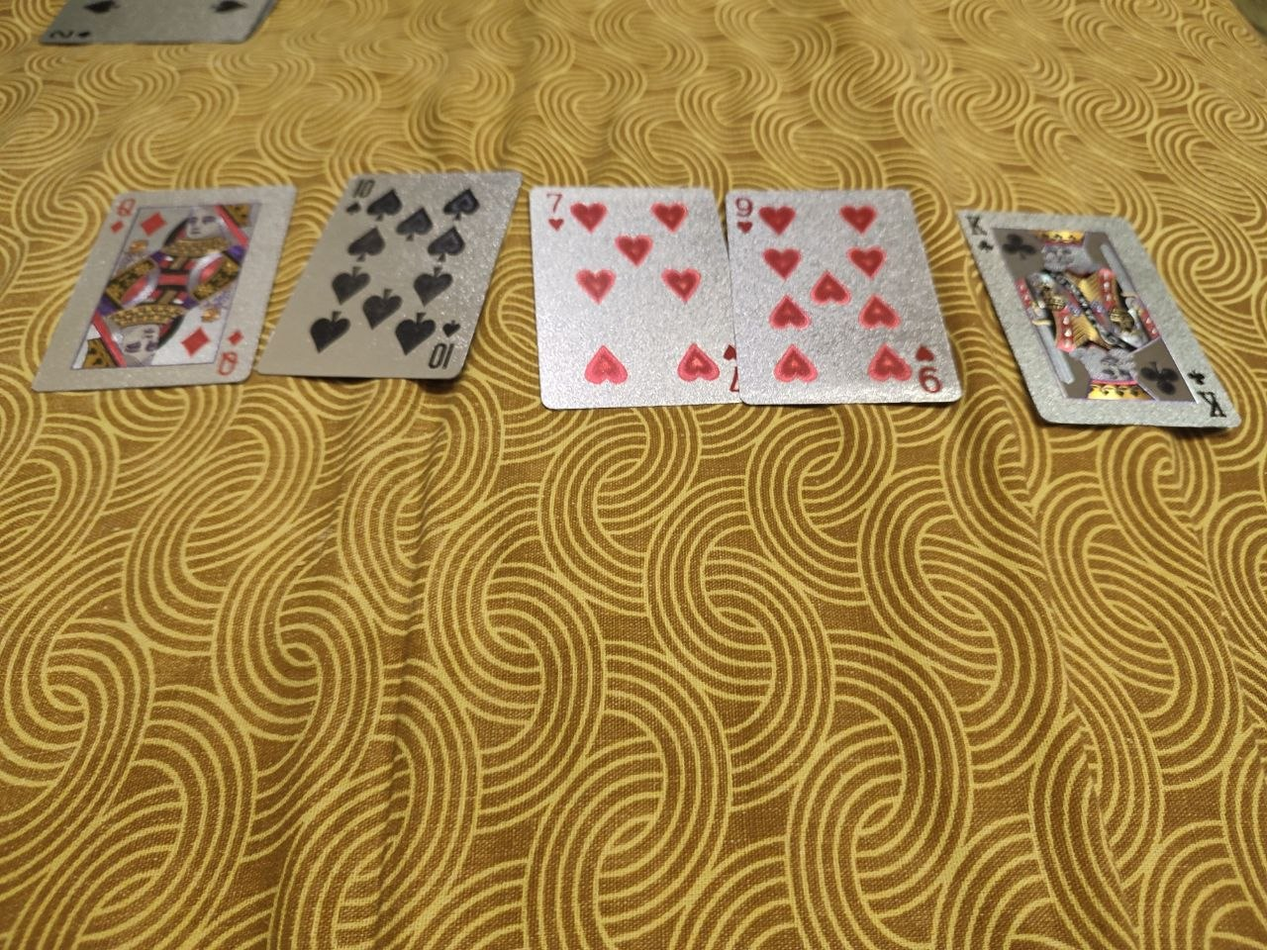10S: (255, 170, 522, 379)
7H: (529, 181, 742, 409)
9H: (725, 186, 965, 406)
KC: (957, 207, 1241, 429)
QD: (34, 183, 299, 388)
